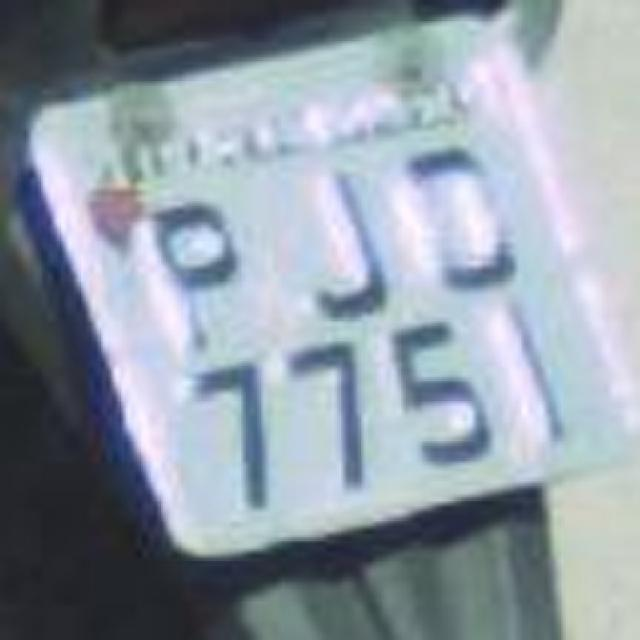1: (476, 260, 612, 455)
5: (364, 295, 516, 480)
7: (168, 340, 300, 520), (268, 324, 392, 511)
J: (276, 156, 412, 324)
O: (400, 125, 532, 300)
P: (128, 172, 264, 356)
